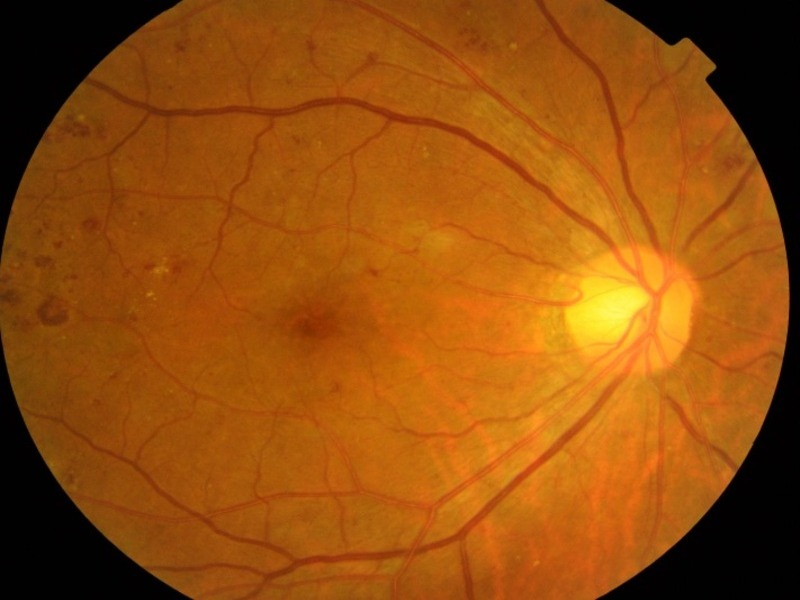Optic Cup: (568, 278, 650, 346)
Optic Disc: (569, 244, 700, 369)
